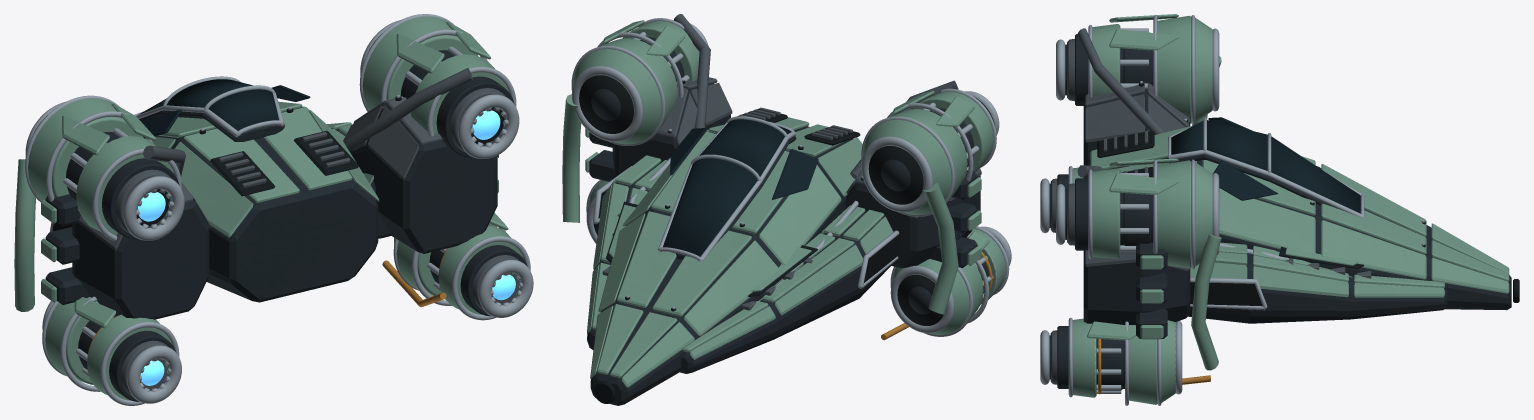
Rendered from vengeance.glb.
The picture shows the model from 3 angles, left to right: view 1: azimuth 30°, elevation 25°; view 2: azimuth 150°, elevation 25°; view 3: azimuth 270°, elevation 25°; orthographic projection. The views are drawn at different scales.
Visible parts, largest first — view 1: vengeance.001; view 2: vengeance.001; view 3: vengeance.001.
Boxes of the visible parts, x1,y1,x2,y2 form: vengeance.001: [14, 14, 533, 405]; vengeance.001: [562, 14, 1011, 405]; vengeance.001: [1040, 14, 1519, 405].
Bounding box in the file's own units: 4.55 × 2.52 × 4.68.
8 materials, 8 textured.
